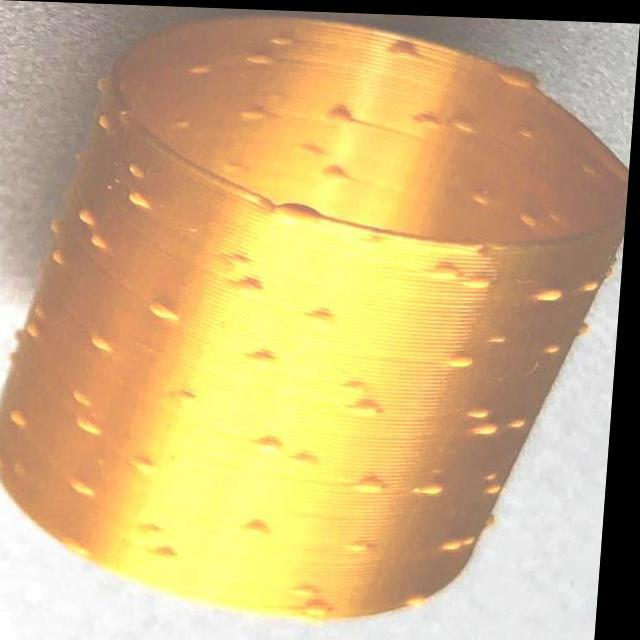zits: (286, 438, 332, 472), (250, 424, 291, 458), (442, 106, 482, 136), (78, 416, 116, 445), (157, 294, 193, 324), (304, 304, 350, 327), (349, 393, 397, 415), (238, 516, 278, 542), (384, 34, 424, 60), (68, 532, 106, 559), (324, 100, 356, 132), (424, 256, 465, 280), (500, 63, 539, 88), (70, 468, 106, 495), (526, 284, 574, 304), (86, 331, 130, 352), (320, 159, 360, 182), (234, 269, 268, 296), (246, 344, 282, 369), (479, 468, 516, 492), (217, 152, 251, 178), (566, 269, 604, 292), (121, 188, 162, 208), (422, 474, 457, 497), (130, 450, 163, 474), (409, 106, 442, 130), (466, 182, 496, 208), (443, 532, 480, 553), (360, 468, 392, 492), (346, 534, 382, 555), (160, 540, 191, 564), (504, 405, 535, 429), (258, 26, 292, 47), (452, 346, 482, 369), (174, 386, 208, 406), (188, 57, 215, 82), (475, 418, 510, 437), (75, 384, 100, 410), (121, 154, 148, 178), (169, 115, 206, 132), (74, 205, 101, 228), (245, 100, 273, 122), (468, 270, 498, 290), (22, 319, 47, 343), (514, 203, 540, 226), (240, 48, 273, 66), (308, 594, 340, 612), (48, 242, 72, 266), (10, 407, 33, 431), (513, 116, 538, 138), (93, 110, 116, 133), (88, 230, 113, 250), (414, 586, 437, 606), (473, 401, 498, 418)
